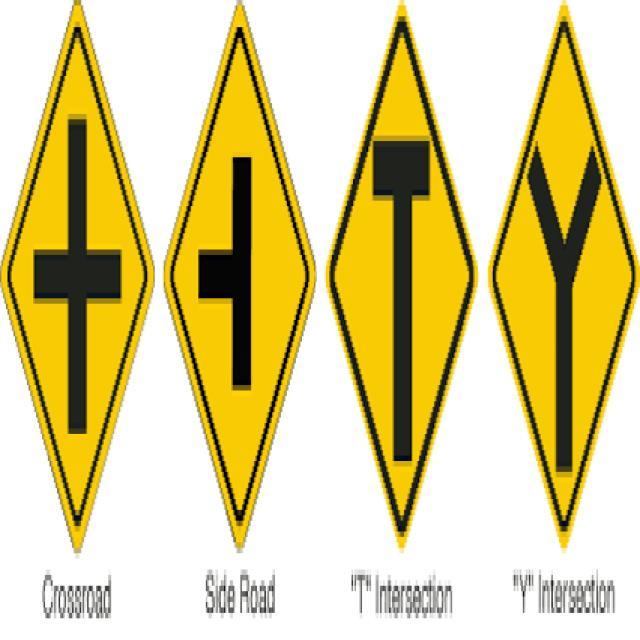t intersection: (324, 18, 473, 532)
